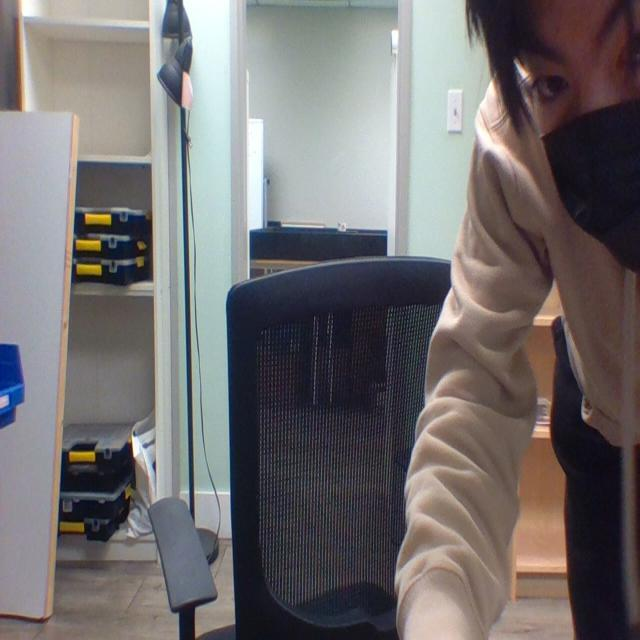black-chair: (150, 254, 482, 639)
